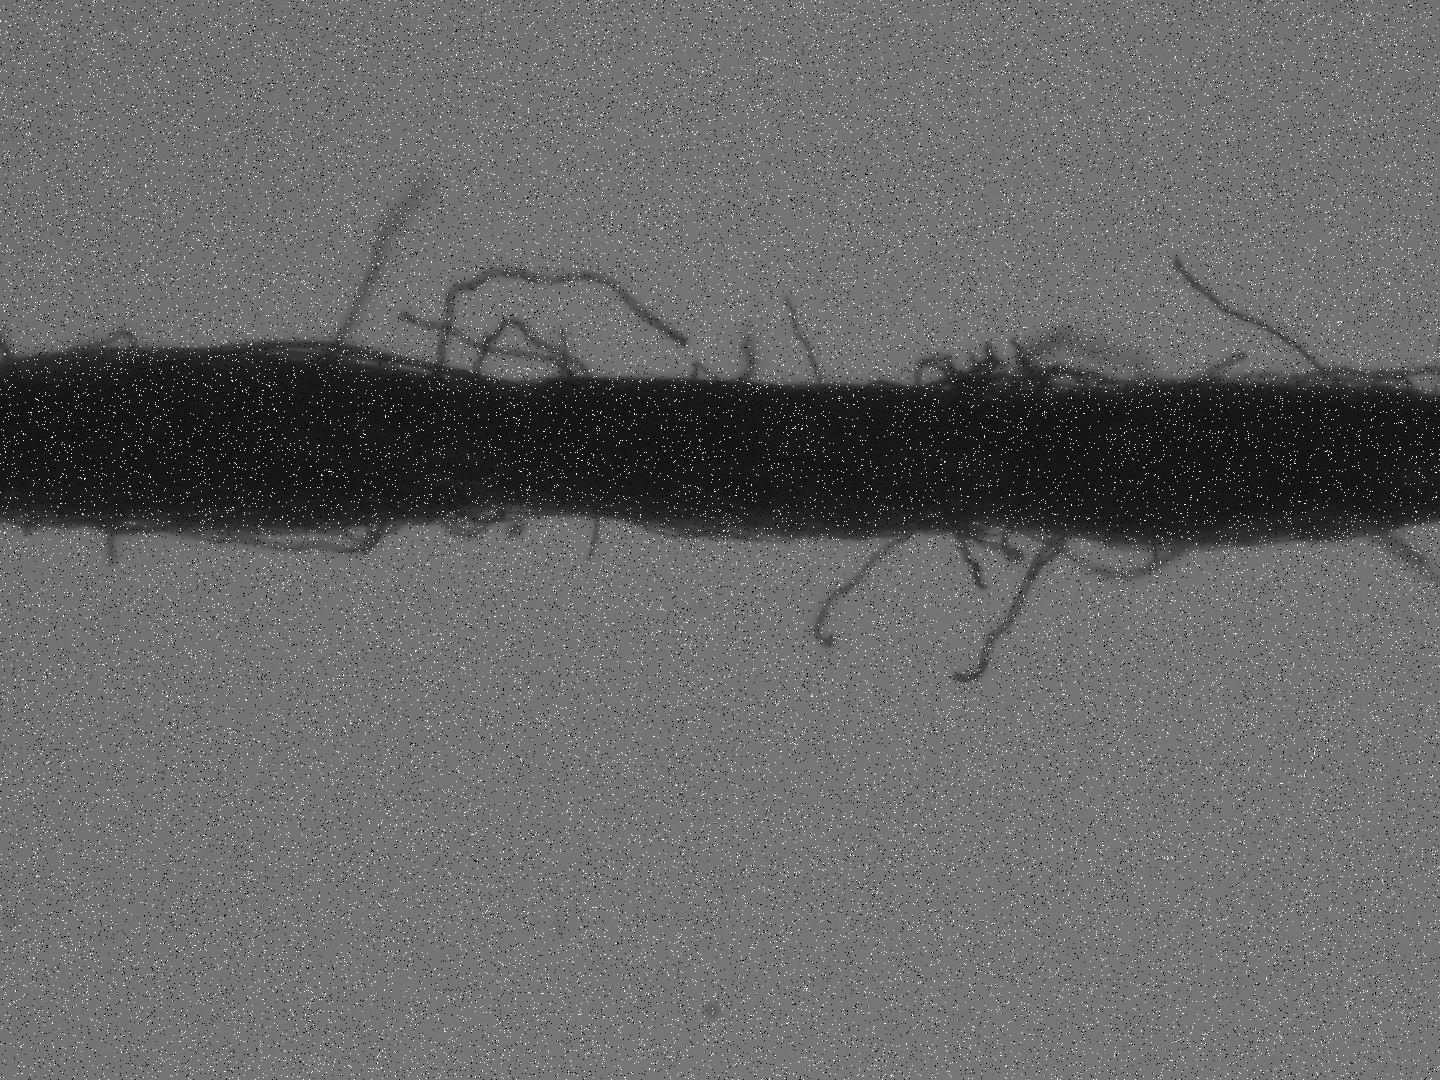loop_fiber: (469, 313, 595, 386), (247, 338, 469, 379), (171, 517, 384, 555), (923, 355, 1089, 396), (962, 515, 1027, 564), (441, 511, 502, 541), (460, 501, 509, 526), (99, 329, 136, 353), (372, 515, 410, 538)
protruding_fiber: (426, 269, 686, 373), (1169, 259, 1344, 390), (330, 170, 424, 361), (959, 530, 1073, 683), (398, 313, 577, 381), (814, 531, 914, 651), (787, 295, 825, 385), (962, 531, 985, 588), (107, 530, 120, 572)
